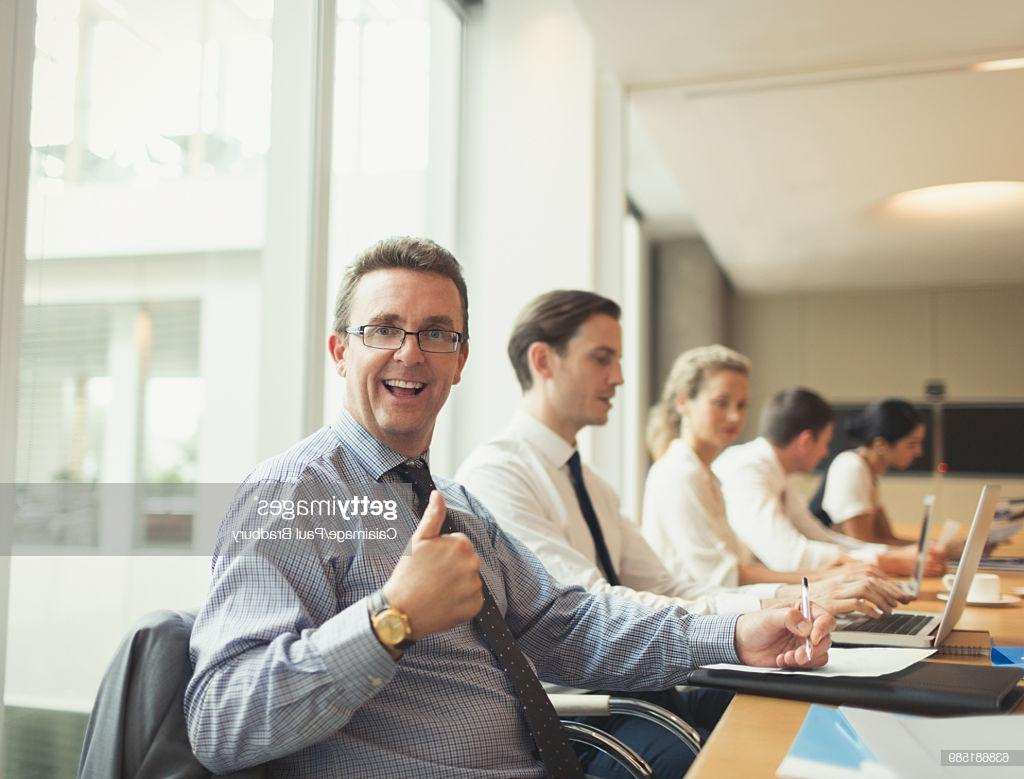thumbsup: (422, 489, 485, 625)
